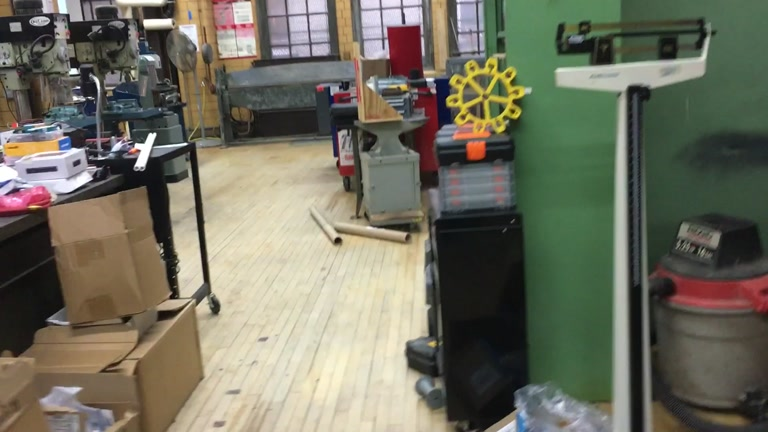gear: (446, 58, 525, 135)
